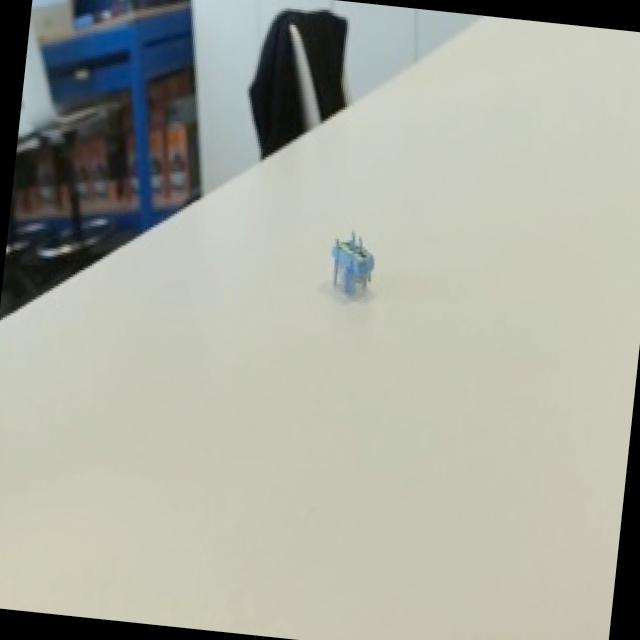3_NanoBug_Celeste: (318, 220, 392, 322)
